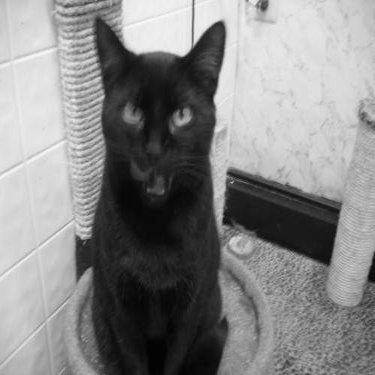cat: (90, 11, 231, 371)
